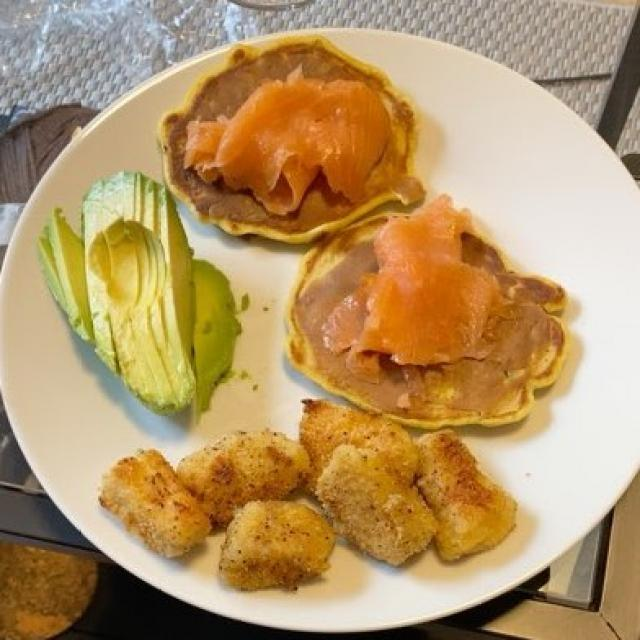avocado: (45, 176, 234, 428)
fish: (108, 398, 535, 601)
pancakes: (148, 50, 569, 425)
salmon: (172, 74, 503, 375)
